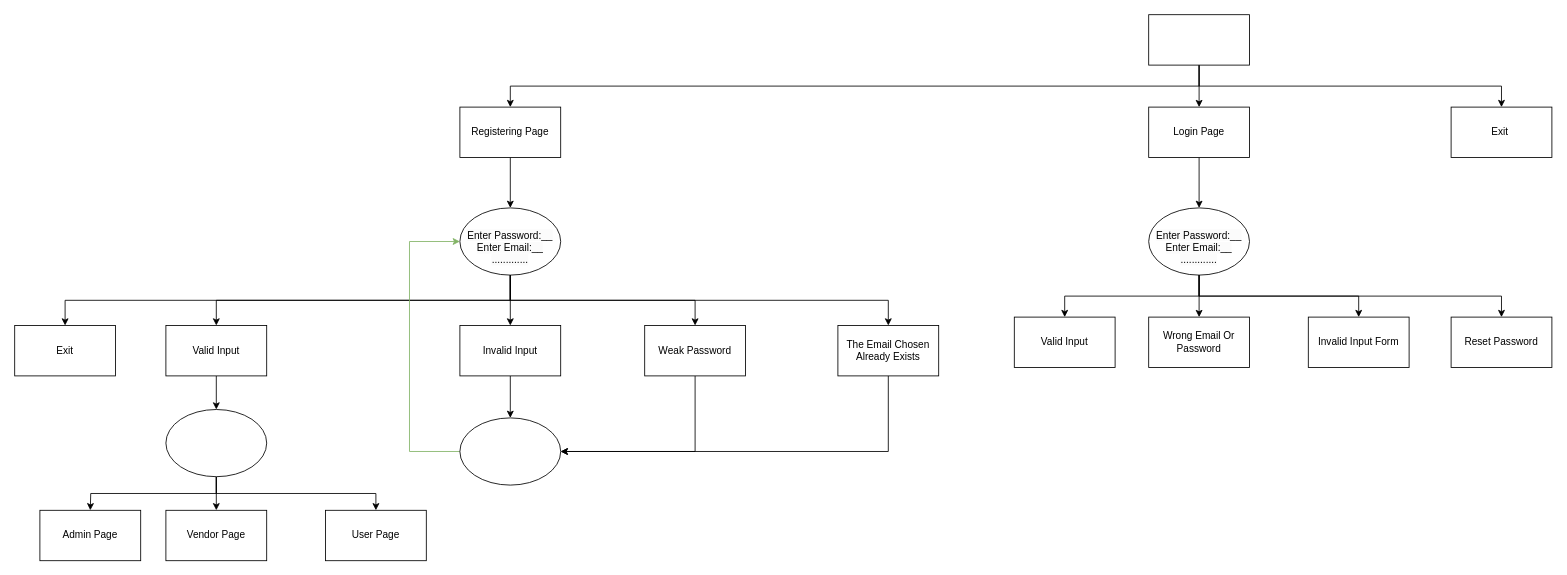
Some shapes in this 1567 by 575 pixel diagram are drawn without their labels. The box of each missing label's shape, as (x1, y1, x2, y2) in pixels:
First node: (1148, 14, 1250, 65)
Goes To Either Page: (165, 409, 267, 477)
Message Showing The Problem: (459, 417, 561, 485)
